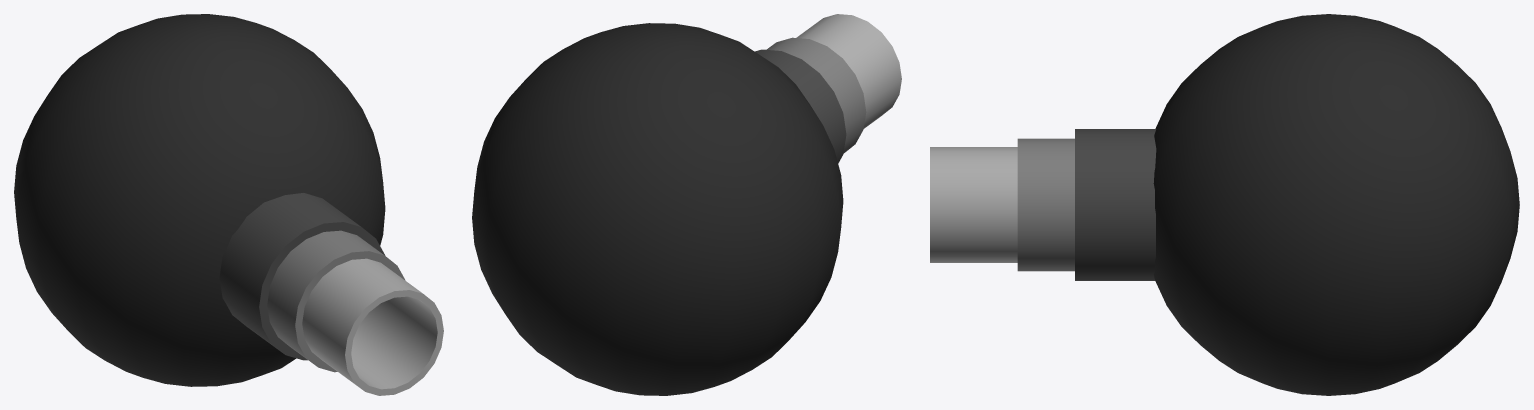
Rendered from cannon.obj.
3 renders of one model, left to right at view 1: azimuth 30°, elevation 25°; view 2: azimuth 150°, elevation 25°; view 3: azimuth 270°, elevation 25°, orthographic. The views are drawn at different scales.
Bounding box in the file's own units: 5 × 5 × 7.71.
